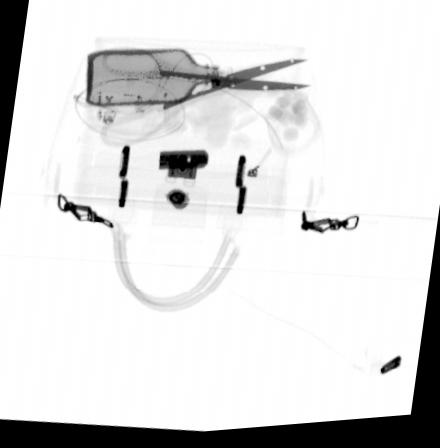Scissors: (98, 46, 312, 152)
